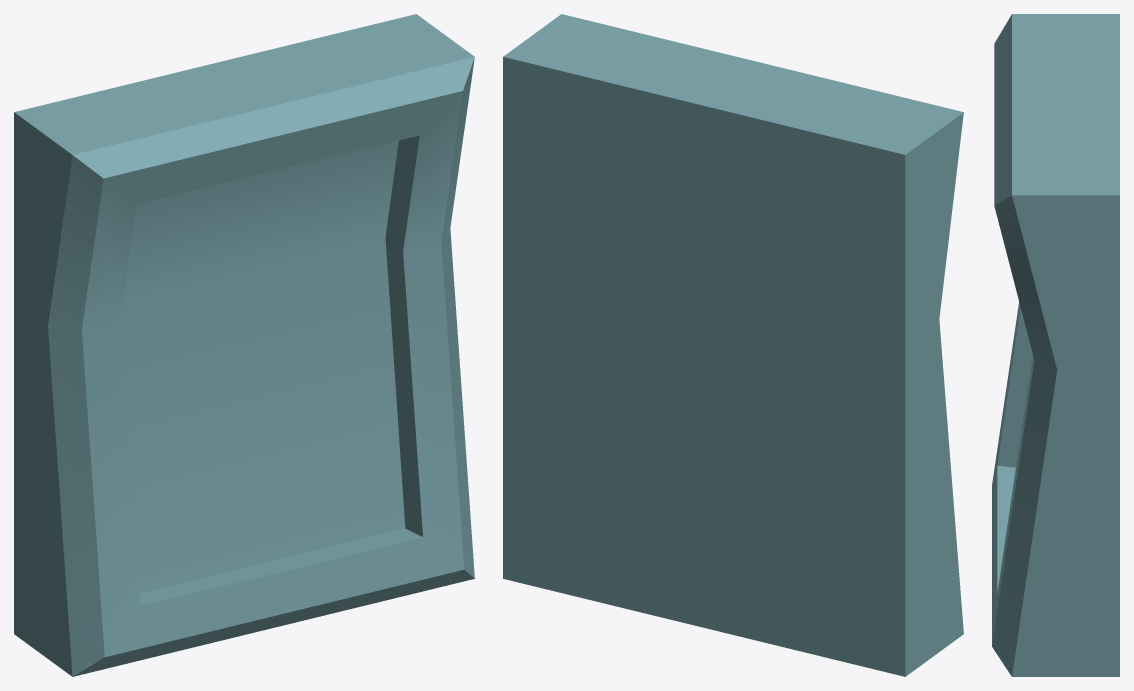
The model's file is door_block.fbx.
The picture shows the model from 3 angles, left to right: view 1: azimuth 30°, elevation 25°; view 2: azimuth 150°, elevation 25°; view 3: azimuth 270°, elevation 25°; orthographic projection. The views are drawn at different scales.
Parts seen in each view (by area): view 1: door_block; view 2: door_block; view 3: door_block.
Boxes of the visible parts, x1,y1,x2,y2 form: door_block: (14,14,474,676); door_block: (503,14,963,676); door_block: (992,14,1119,676).
Bounding box in the file's own units: 40.02 × 49.61 × 11.93.
